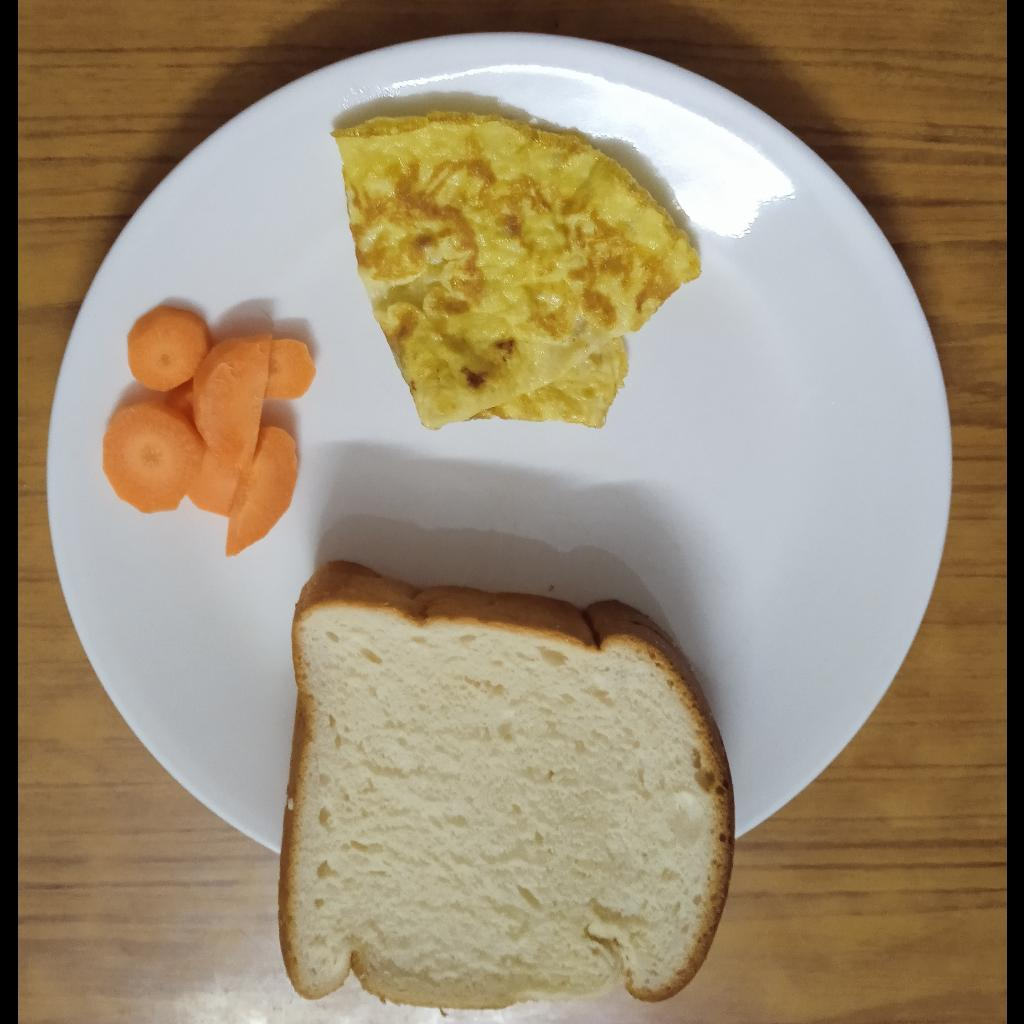bread: (278, 561, 734, 1008)
carrot: (101, 306, 316, 558)
egg-poached: (329, 110, 700, 432)
